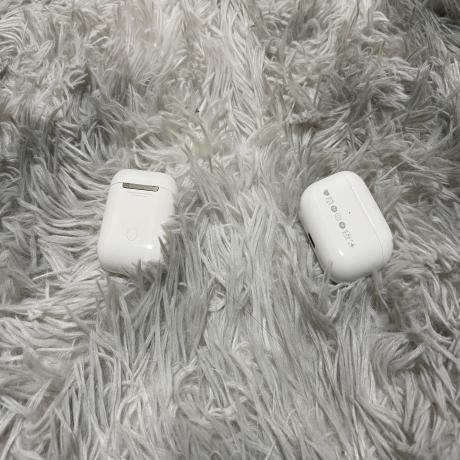airpod2: (98, 161, 177, 281)
airpod3: (298, 166, 394, 288)
